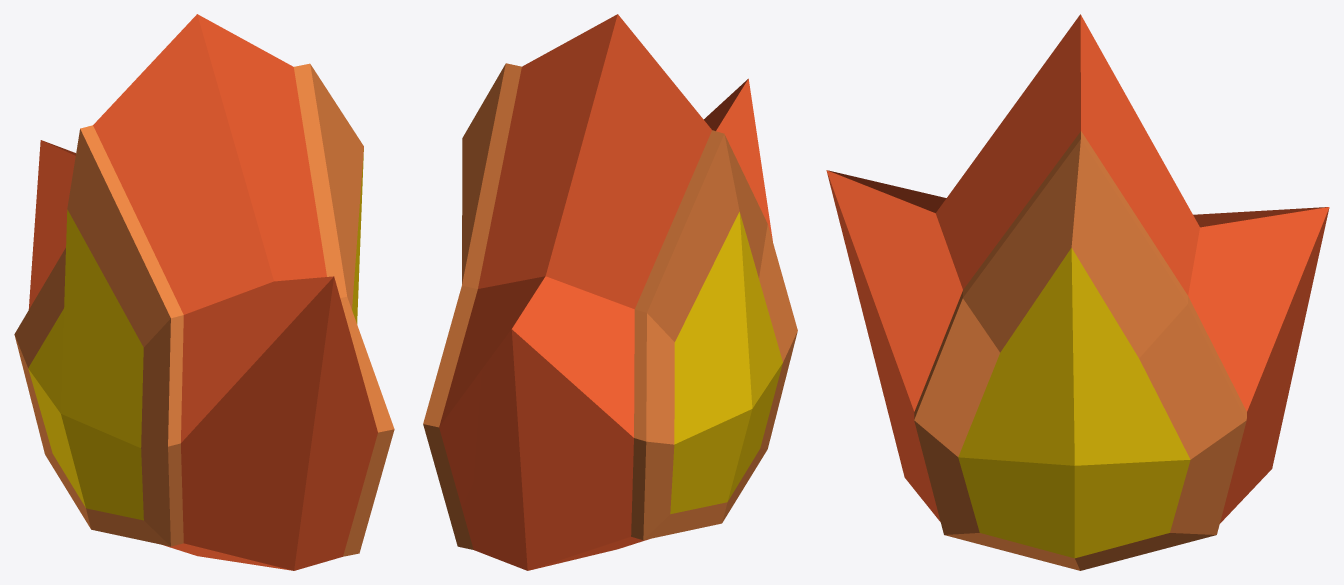
File: fuego.gltf
The picture shows the model from 3 angles, left to right: view 1: azimuth 30°, elevation 25°; view 2: azimuth 150°, elevation 25°; view 3: azimuth 270°, elevation 25°; orthographic projection. The views are drawn at different scales.
Parts seen in each view (by area): view 1: Cube.020; view 2: Cube.020; view 3: Cube.020.
Part boxes in pixels (x1,y1,x2,y2): Cube.020: (14, 14, 394, 570); Cube.020: (423, 14, 797, 570); Cube.020: (826, 14, 1329, 570).
Size of the model in its own units: 0.3492 by 0.6061 by 0.5405.
